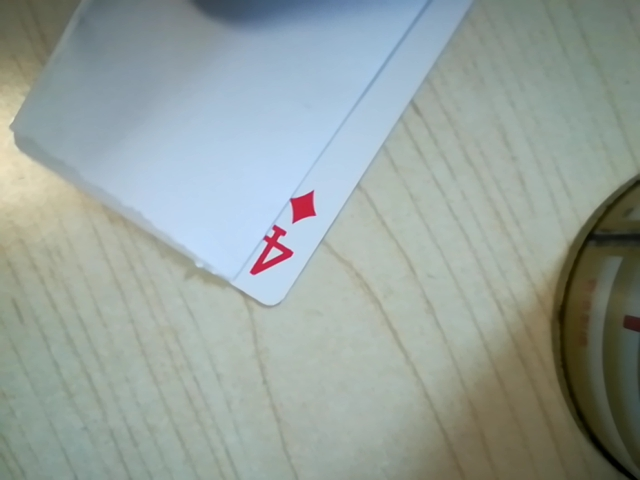fk 4: (237, 186, 323, 286)
